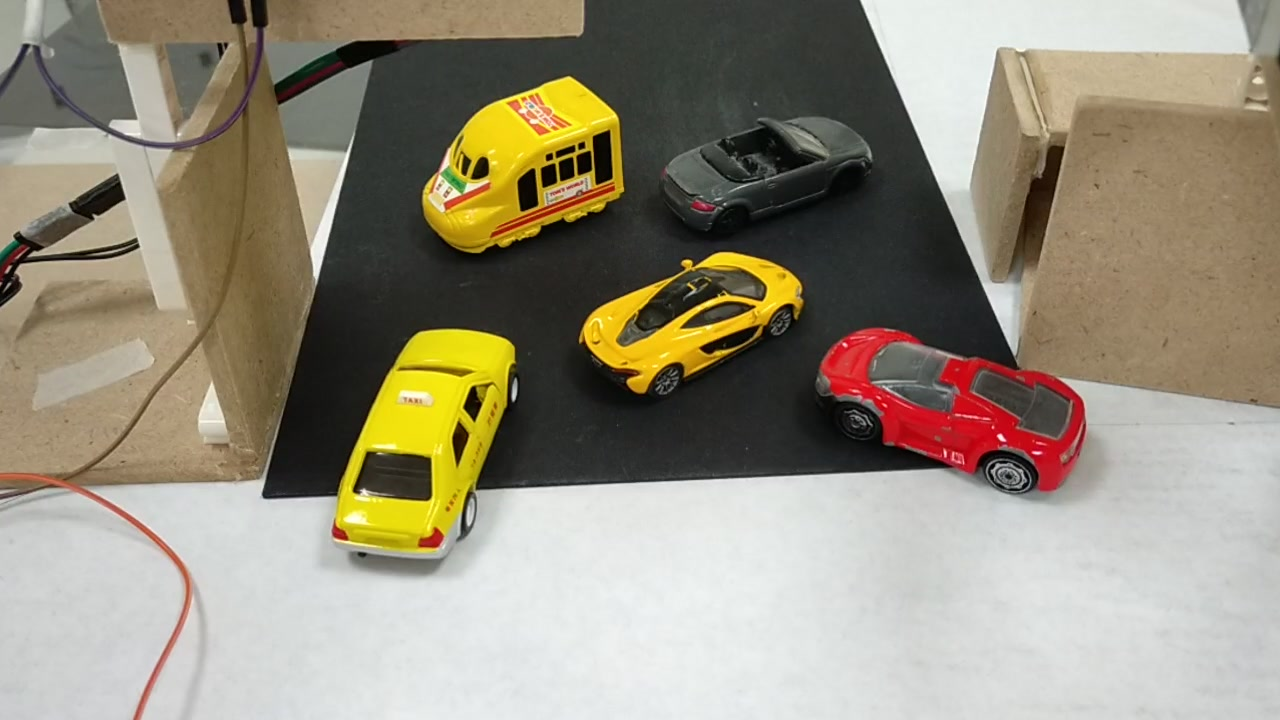car: (817, 318, 1078, 495), (329, 339, 515, 553), (576, 269, 815, 385), (650, 106, 869, 229)
